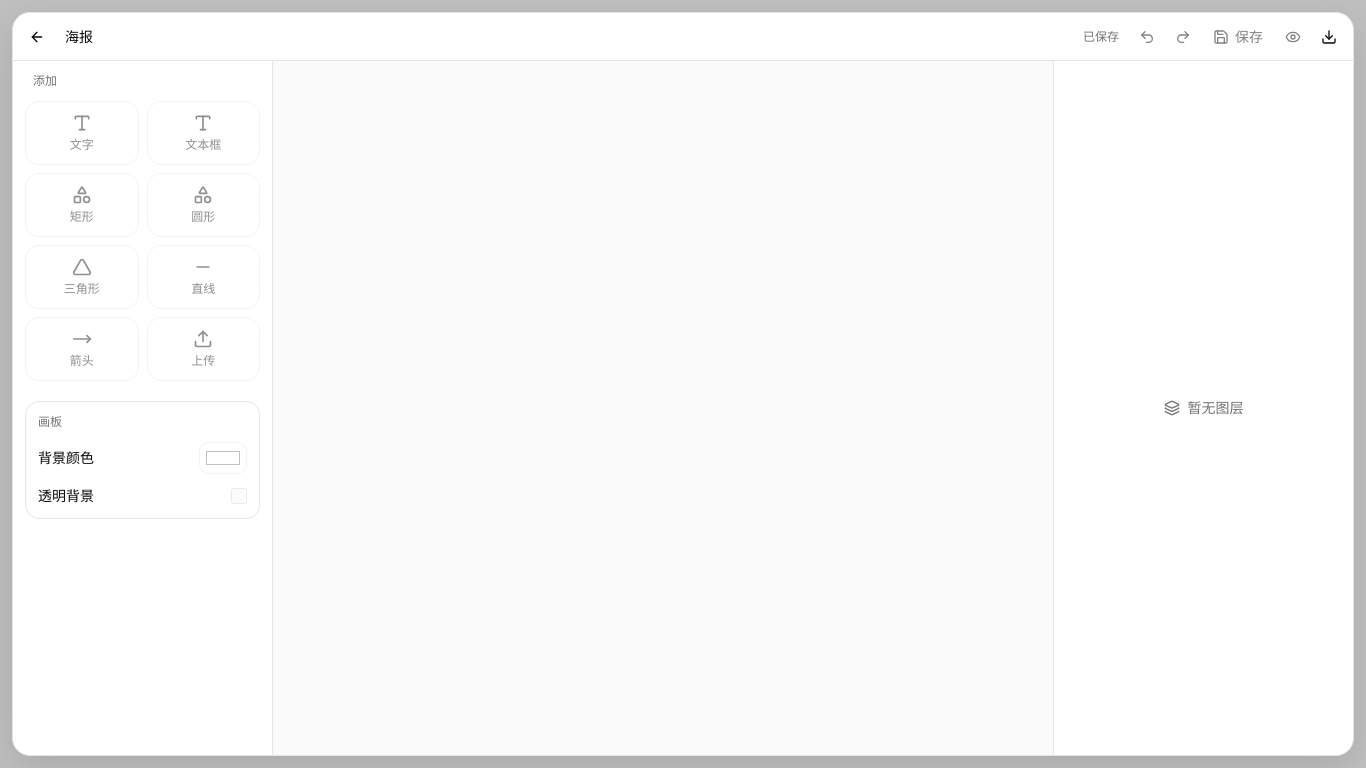
DesignEditorOverlay › opens a browser export dialog and submits the selected format and scale
Click the button named "导出".
click(1329, 36)  # box [1313,20,1345,52]
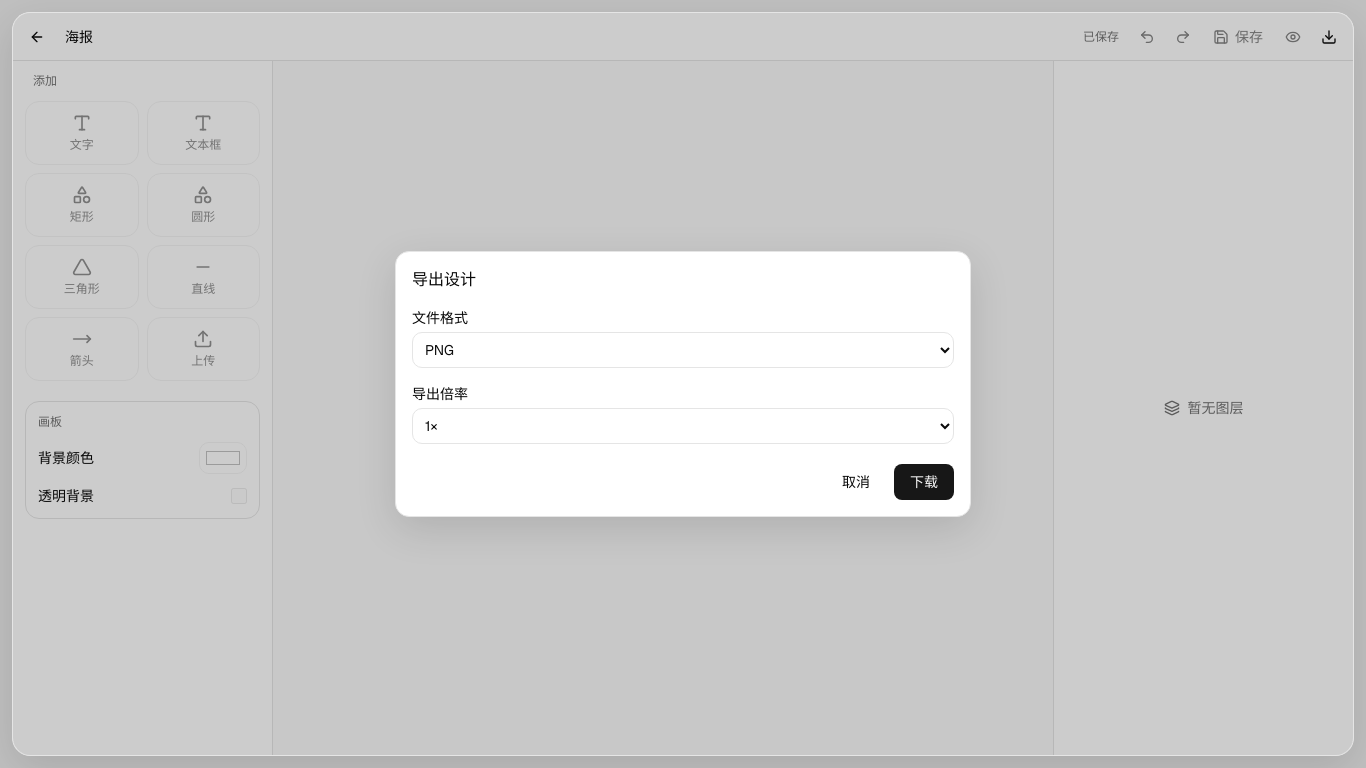
Expected: the dialog "导出设计" is shown, [395,251,971,517]
Select "透明 PNG" in the dropdown named "导出格式" at (683, 350), box [412,332,954,368]
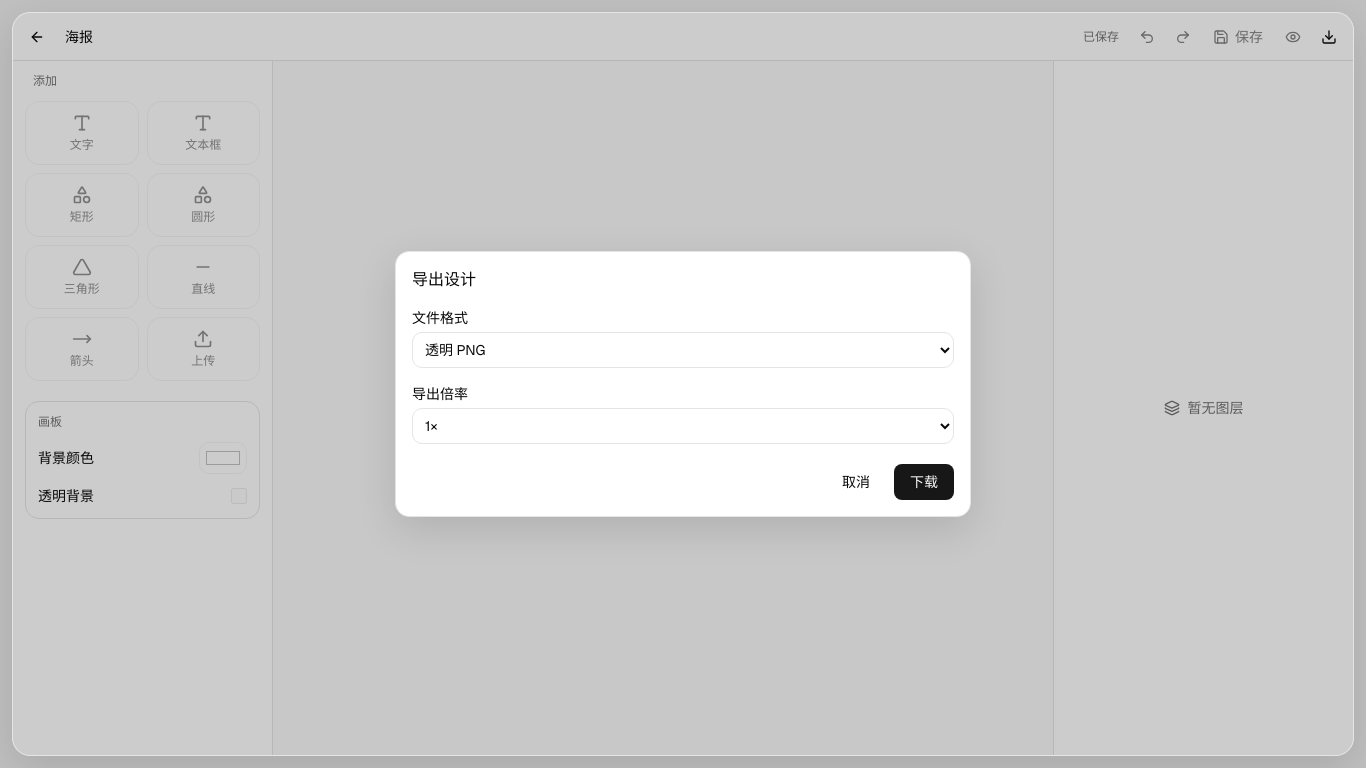
Select "2×" in the dropdown labelled "导出倍率" at (683, 426), box [412,408,954,444]
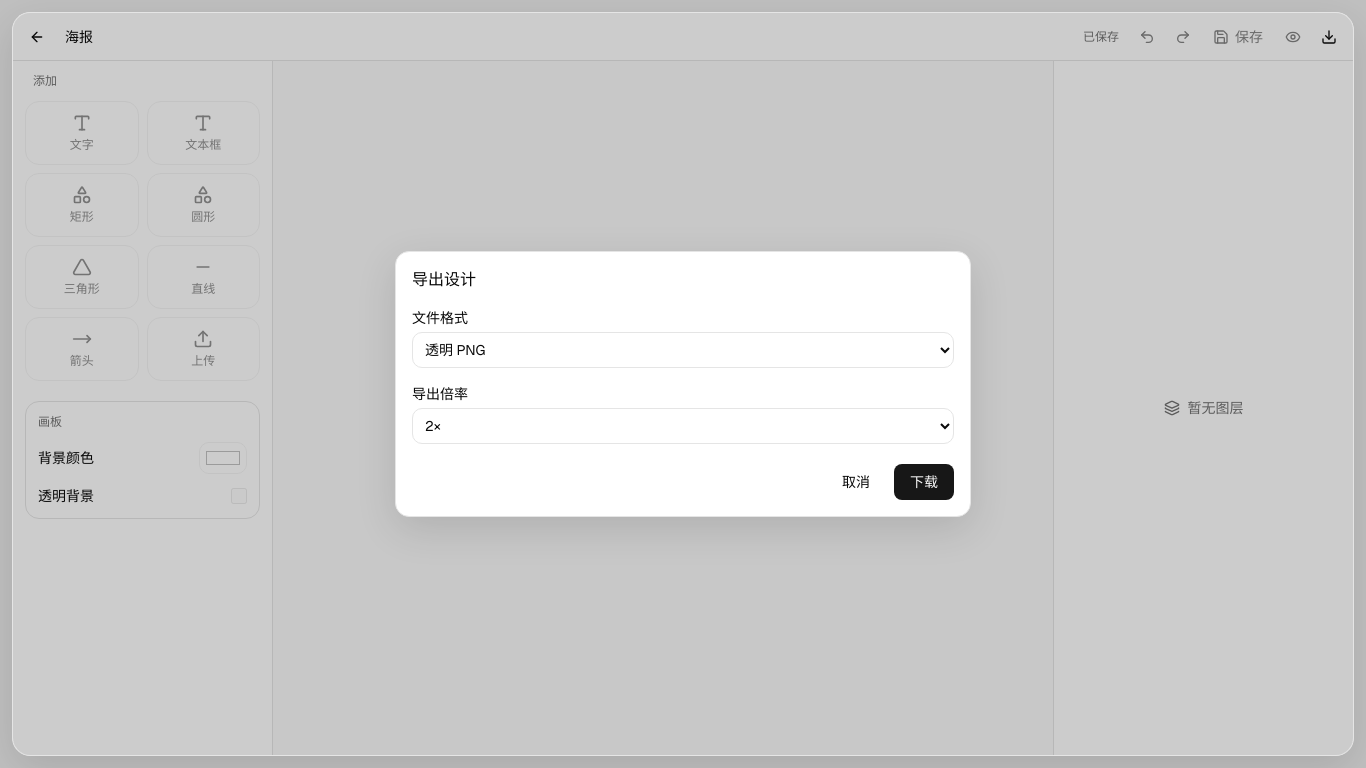
Click the button "下载".
click(924, 482)  # box [894,464,954,500]
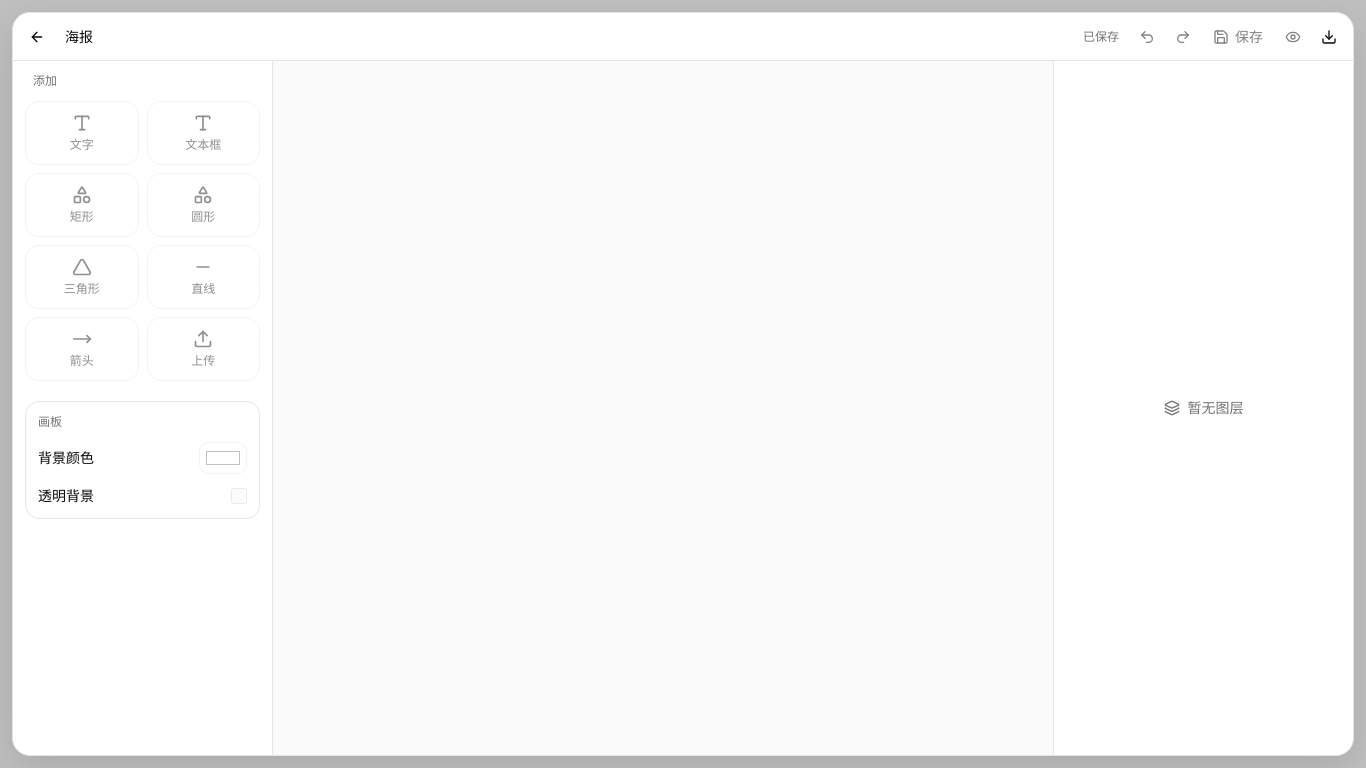
Expected: the heading "导出设计" is gone
